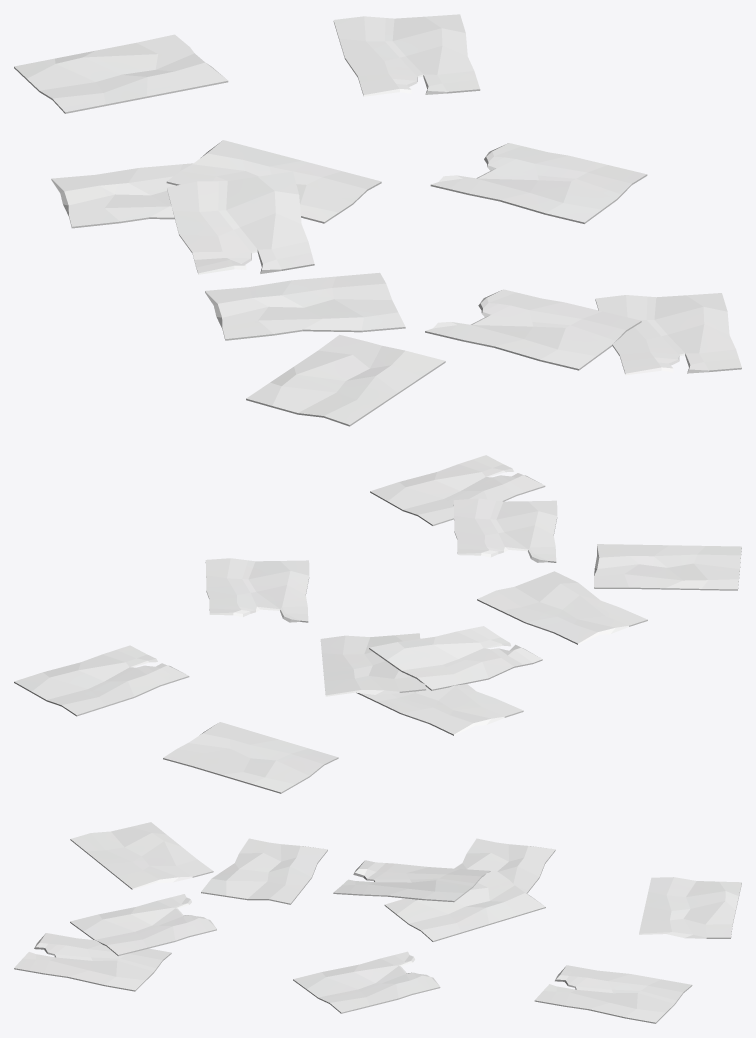
Rendered from paper_trash_cluster_1.glb.
The picture shows the model from 3 angles, top to bottom: view 1: azimuth 30°, elevation 25°; view 2: azimuth 150°, elevation 25°; view 3: azimuth 270°, elevation 25°; orthographic projection. The views are drawn at different scales.
Parts seen in each view (by area): view 1: paper_trash_cluster_1; view 2: paper_trash_cluster_1; view 3: paper_trash_cluster_1.
Part boxes in pixels (bbox=[...]): paper_trash_cluster_1: bbox=[14, 14, 741, 426]; paper_trash_cluster_1: bbox=[14, 455, 741, 793]; paper_trash_cluster_1: bbox=[14, 822, 741, 1023].
Bounding box in the file's own units: 0.7716 × 0.0334 × 1.18.
1 material, 1 textured.
